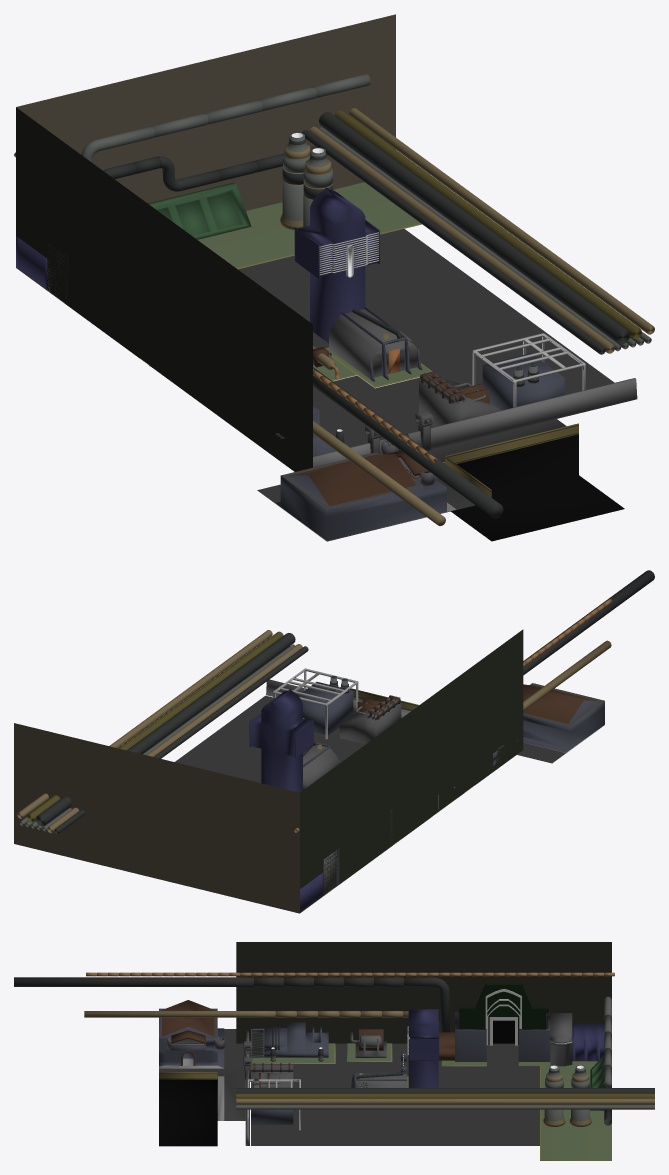
The model's file is Cena2_Remake_Corrido_13.fbx.
3 renders of one model, top to bottom at view 1: azimuth 30°, elevation 25°; view 2: azimuth 150°, elevation 25°; view 3: azimuth 270°, elevation 25°, orthographic. The views are drawn at different scales.
Parts seen in each view (by area): view 1: Plane, Plane.001, Plane.002, Cube, Cube.006, Cube.029, Cylinder.017, Cube.033, Cube.001, Cylinder.019, Cylinder.021, Cube.036 (+18 smaller); view 2: Plane.001, Plane, Cube.029, Plane.002, Cube.006, Cylinder.017, Cylinder.019, Cube.023, Cylinder.018, Cube.022, Cylinder.023, Cylinder.014 (+8 smaller); view 3: Plane, Plane.002, Cube, Cylinder.023, Cube.006, Cube.038, Cube.033, Cylinder.019, Cylinder.025, Cylinder.017, Cylinder.018, Cube.029 (+18 smaller).
Boxes of the visible parts, bbox=[...] form: Plane: bbox=[16, 107, 312, 471]; Plane.001: bbox=[16, 14, 395, 210]; Plane.002: bbox=[238, 229, 614, 447]; Cube: bbox=[257, 419, 624, 541]; Cube.006: bbox=[275, 451, 456, 541]; Cube.029: bbox=[294, 187, 379, 343]; Cylinder.017: bbox=[319, 112, 629, 344]; Cube.033: bbox=[198, 182, 421, 269]; Cube.001: bbox=[313, 378, 637, 467]; Cylinder.019: bbox=[349, 108, 654, 334]; Cylinder.021: bbox=[81, 74, 370, 162]; Cube.036: bbox=[148, 182, 251, 239]; Plane.001: bbox=[14, 723, 299, 913]; Plane: bbox=[300, 629, 523, 910]; Cube.029: bbox=[249, 689, 313, 792]; Plane.002: bbox=[175, 695, 365, 782]; Cube.006: bbox=[523, 683, 604, 753]; Cylinder.017: bbox=[36, 633, 295, 826]; Cylinder.019: bbox=[17, 630, 272, 818]; Cube.023: bbox=[298, 682, 353, 735]; Cylinder.018: bbox=[27, 631, 283, 822]; Cube.022: bbox=[339, 698, 401, 744]; Cylinder.023: bbox=[398, 570, 654, 841]; Cylinder.014: bbox=[54, 646, 308, 833]; Plane: bbox=[236, 942, 611, 1043]; Plane.002: bbox=[251, 1043, 539, 1145]; Cube: bbox=[159, 1029, 245, 1146]; Cylinder.023: bbox=[14, 977, 449, 1032]; Cube.006: bbox=[159, 1000, 224, 1068]; Cube.038: bbox=[459, 983, 548, 1045]; Cube.033: bbox=[540, 1066, 611, 1160]; Cylinder.019: bbox=[236, 1098, 654, 1104]; Cylinder.025: bbox=[86, 972, 614, 976]; Cylinder.017: bbox=[236, 1088, 654, 1093]; Cylinder.018: bbox=[236, 1093, 654, 1098]; Cube.029: bbox=[408, 1009, 439, 1087].
Bounding box in the file's own units: 142128 × 63740 × 291953.
